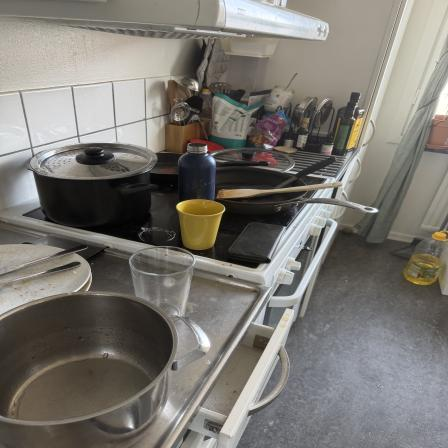blue_bottle: (178, 141, 218, 202)
phone: (231, 218, 287, 264)
yellow_cup: (176, 198, 220, 251)
